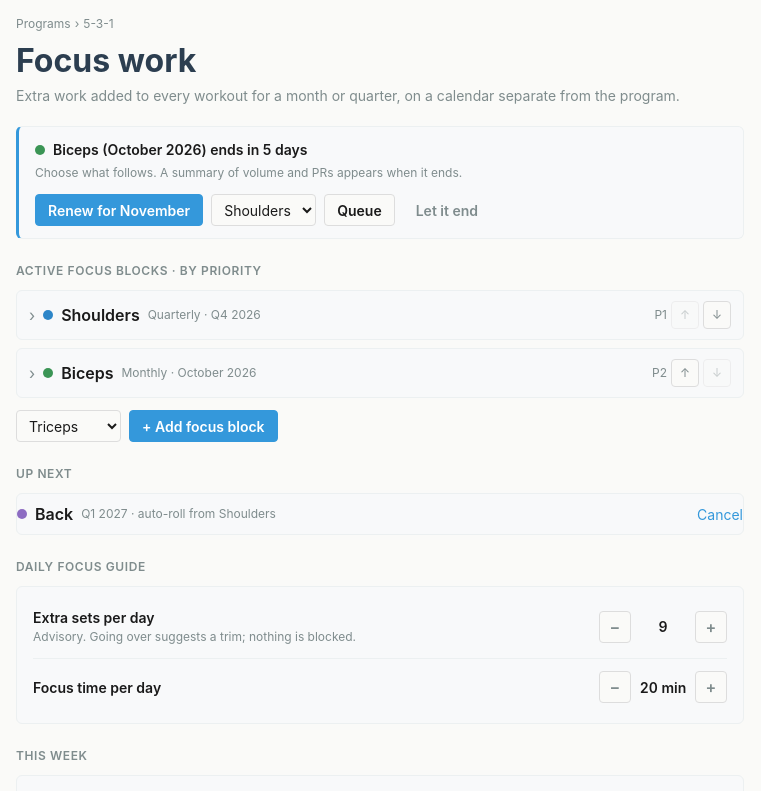
Scenario: FocusSetup › keeps an edit made while the re-read is in flight
This screenshot has width=761, height=791.
Click the button "› Biceps Monthly · October 2026". click: (87, 373)
box: [29, 357, 644, 389]
(page scrolled)
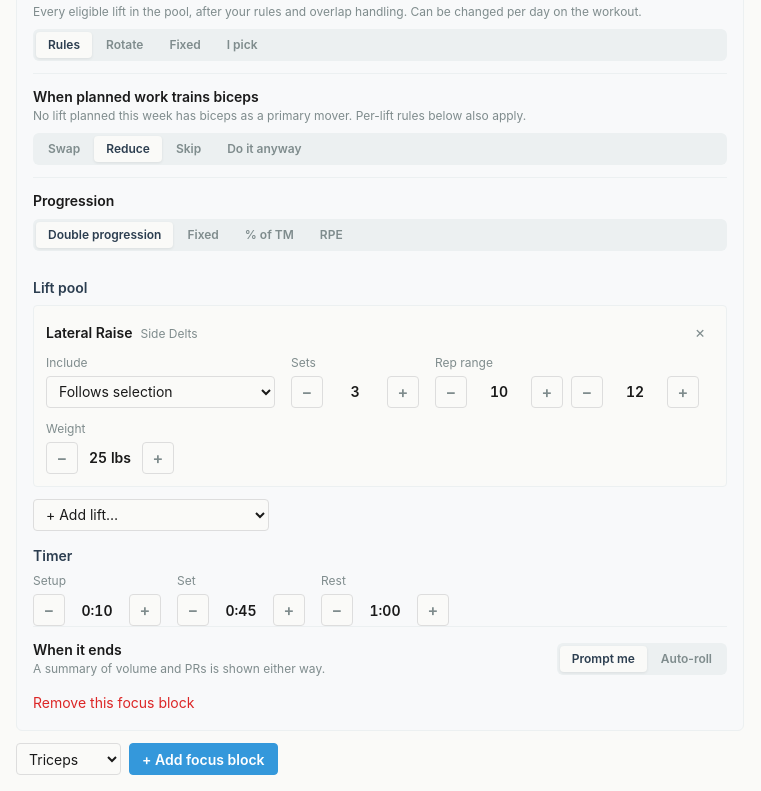
Click the button named "Increase Sets (Lateral Raise)". click: (403, 392)
box: [387, 376, 419, 408]
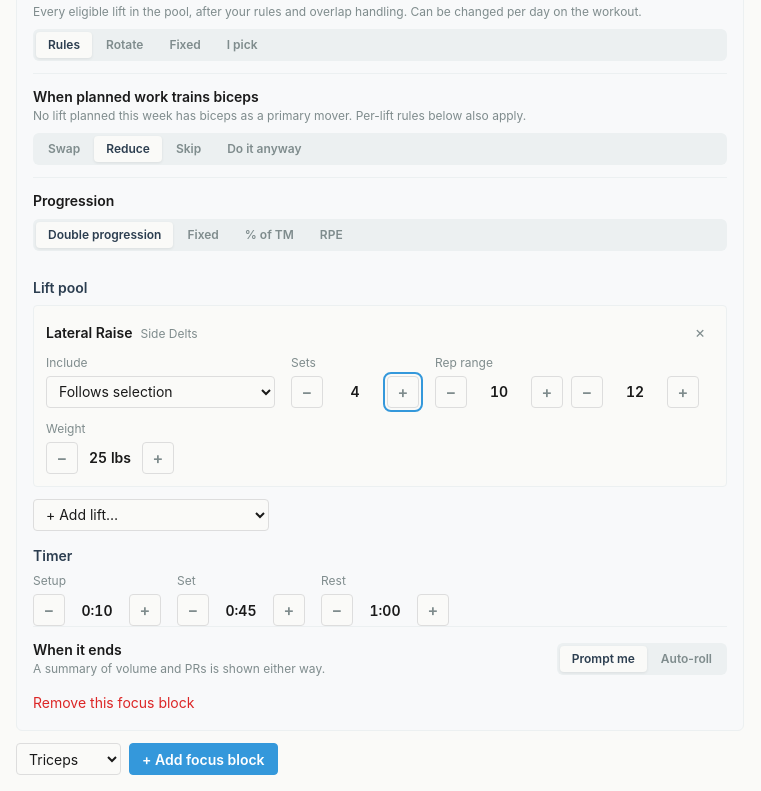
Click the button named "Increase Sets (Lateral Raise)". click: (403, 392)
box: [387, 376, 419, 408]
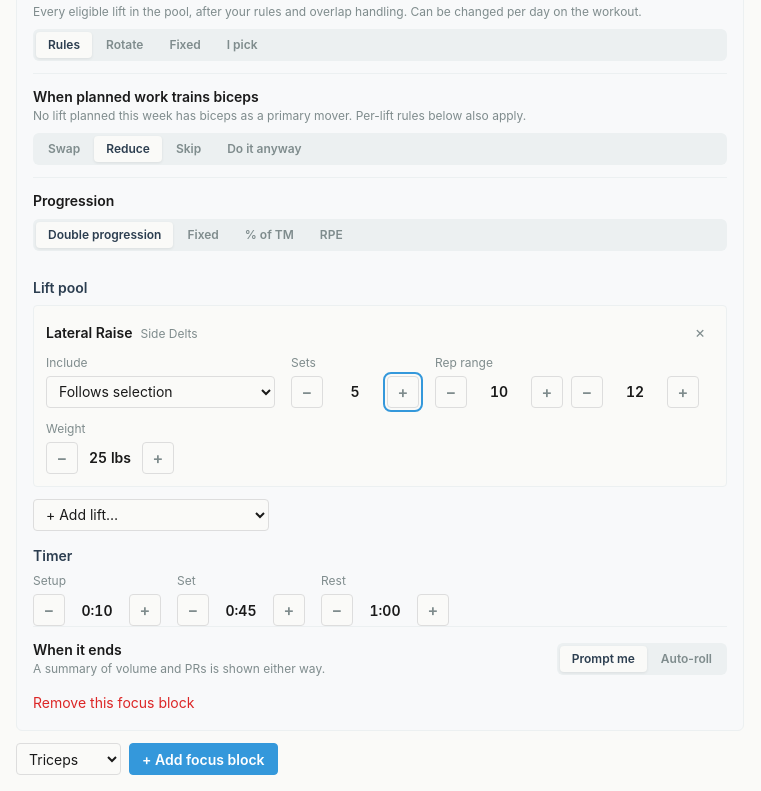
Expected: the text named "Sets (Lateral Raise)" reads "5", [350, 383, 360, 400]
